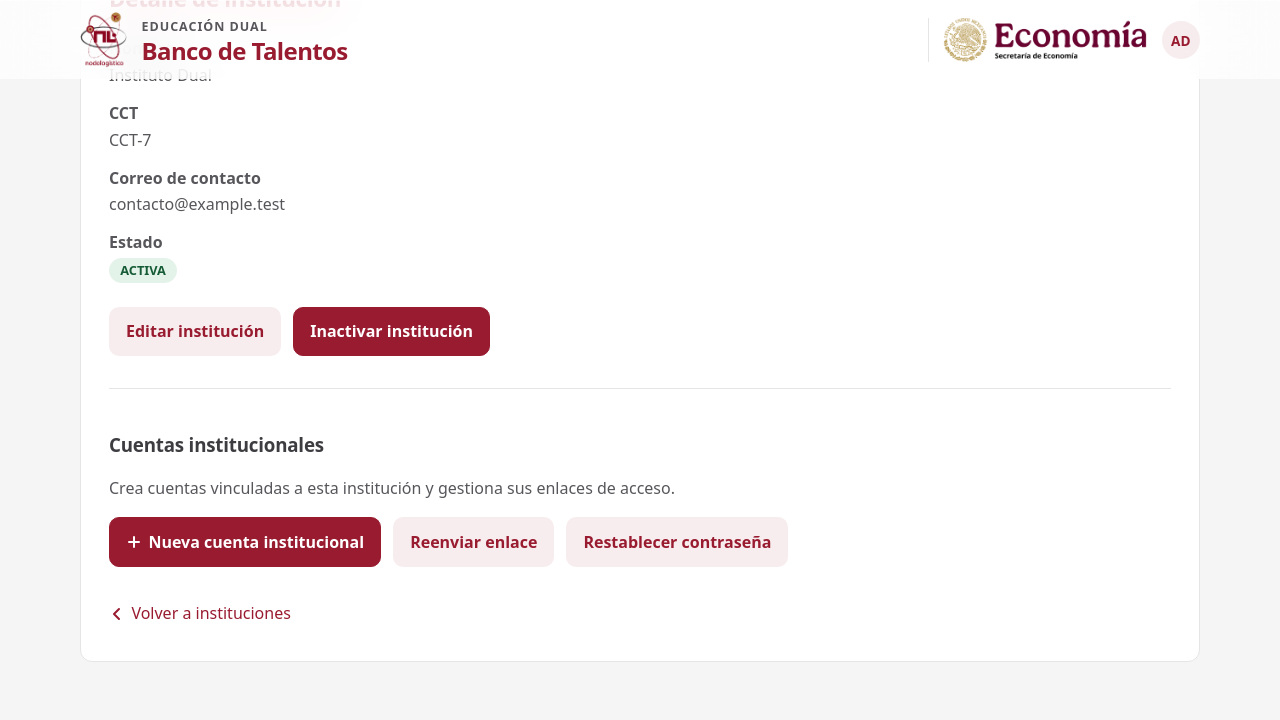
Scenario: inicio administrativo del restablecimiento HU-S1-04 › comunica una entrega pendiente y permite reintentar sin perder el correo
The image size is (1280, 720).
(page scrolled)
Click the button "Restablecer contraseña": (677, 542) [566,517,788,567]
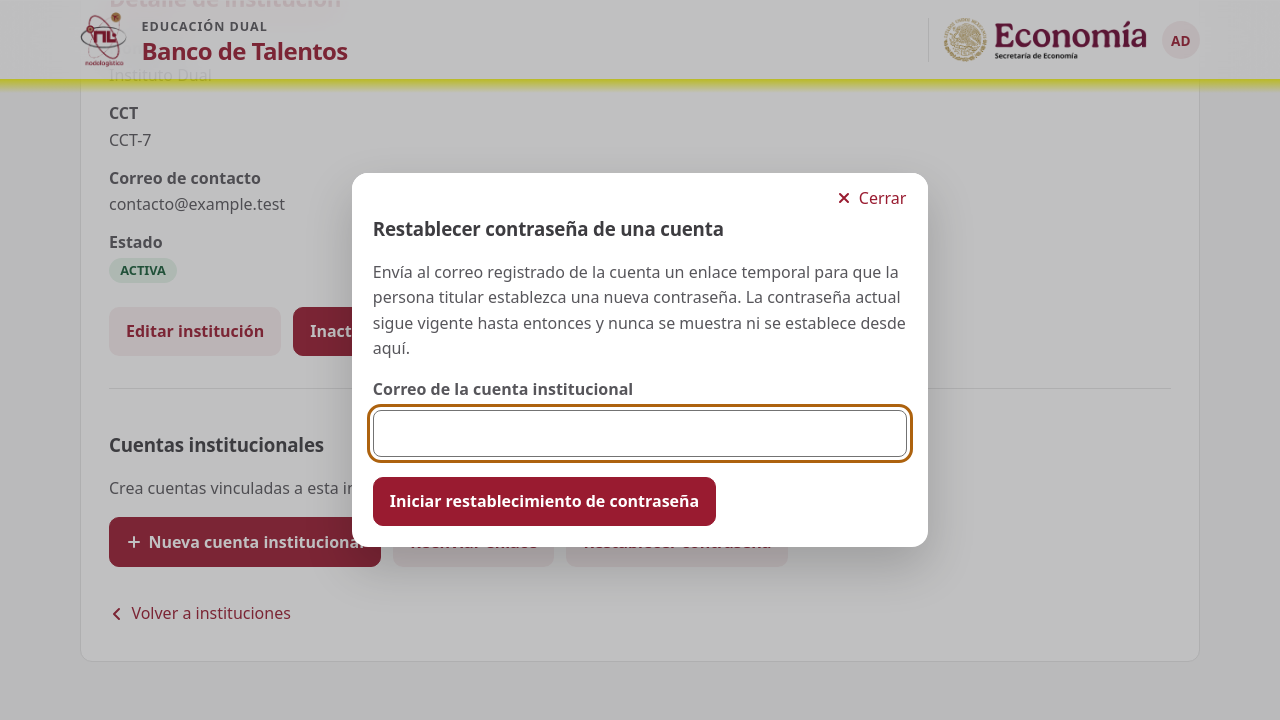
In the field labelled "Correo de la cuenta institucional": (640, 434) [373,410,907,457], type "titular@example.test"
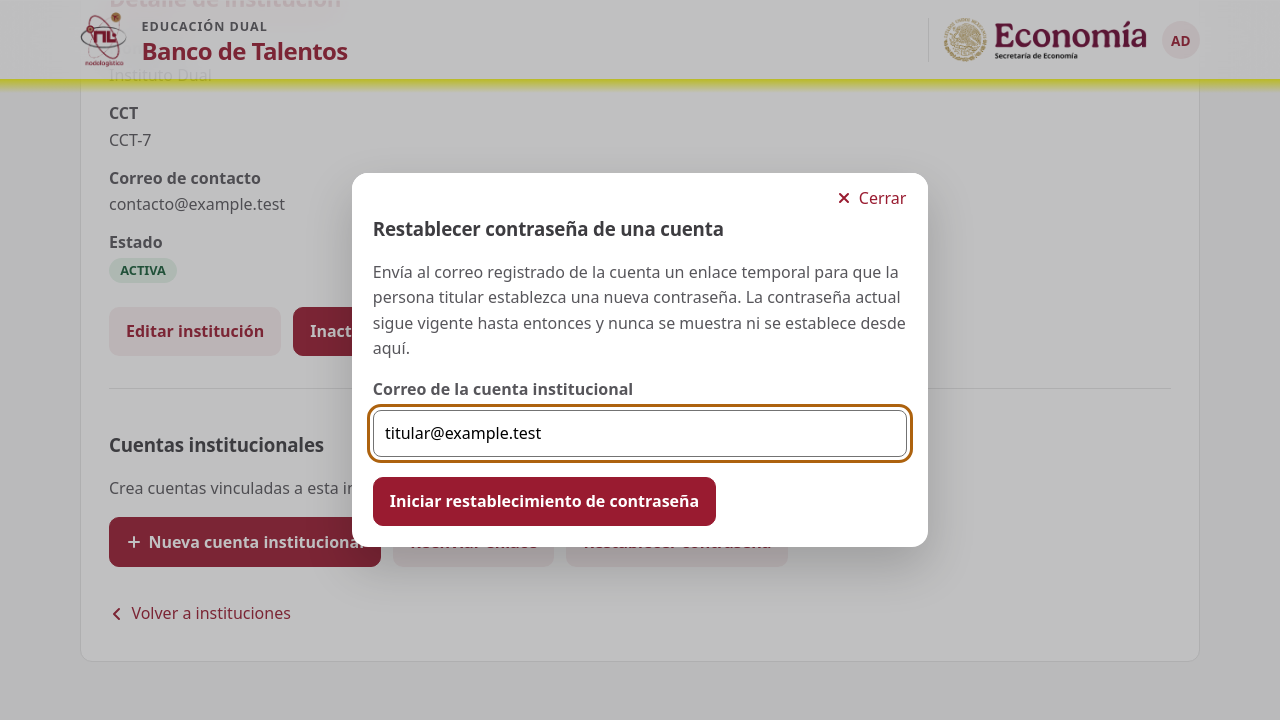
Click the button "Iniciar restablecimiento de contraseña": (544, 501) [373,477,716,526]
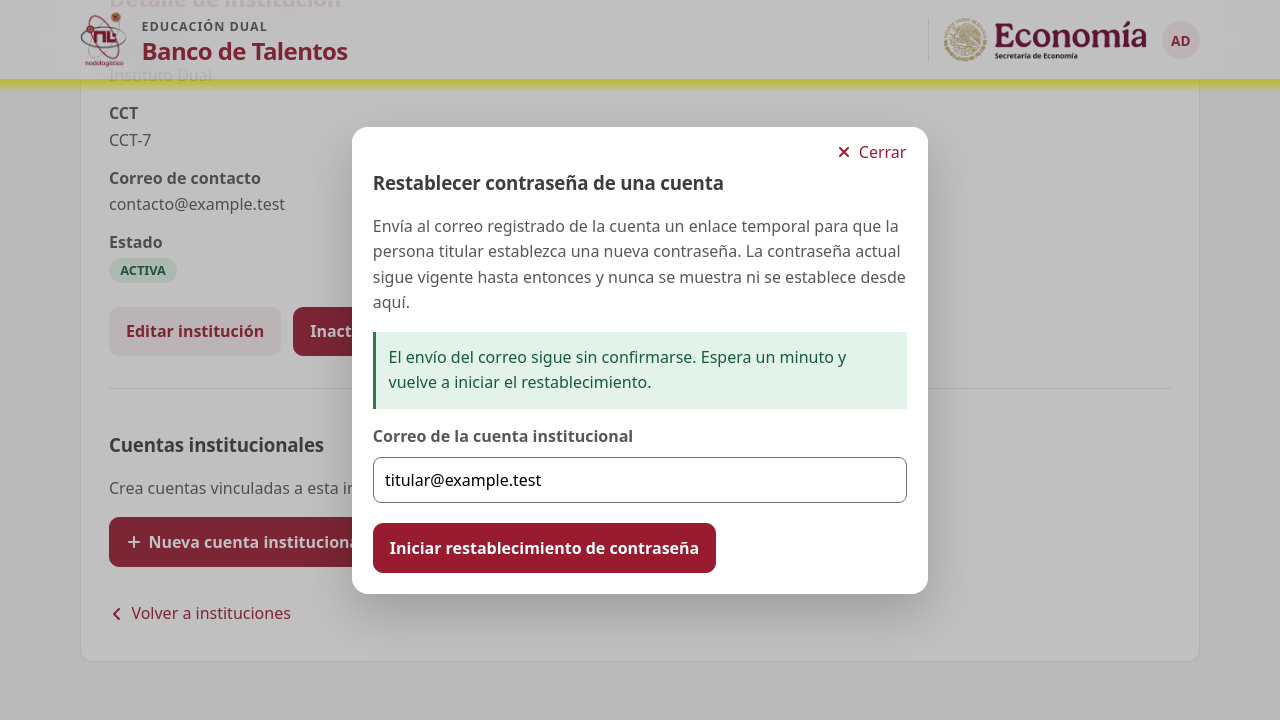
Click the button "Iniciar restablecimiento de contraseña": (544, 548) [373,523,716,573]
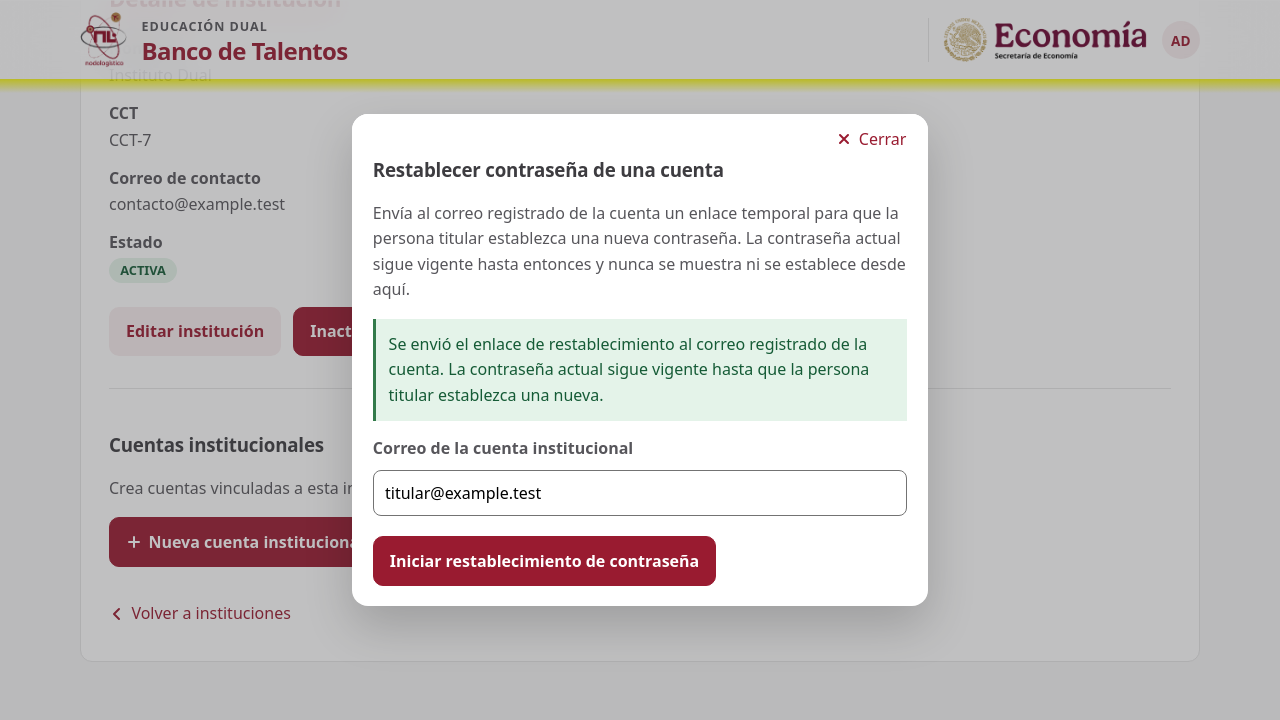
Expected: the text "Se envió el enlace de restablecimiento" is shown, [389,332,869,406]
